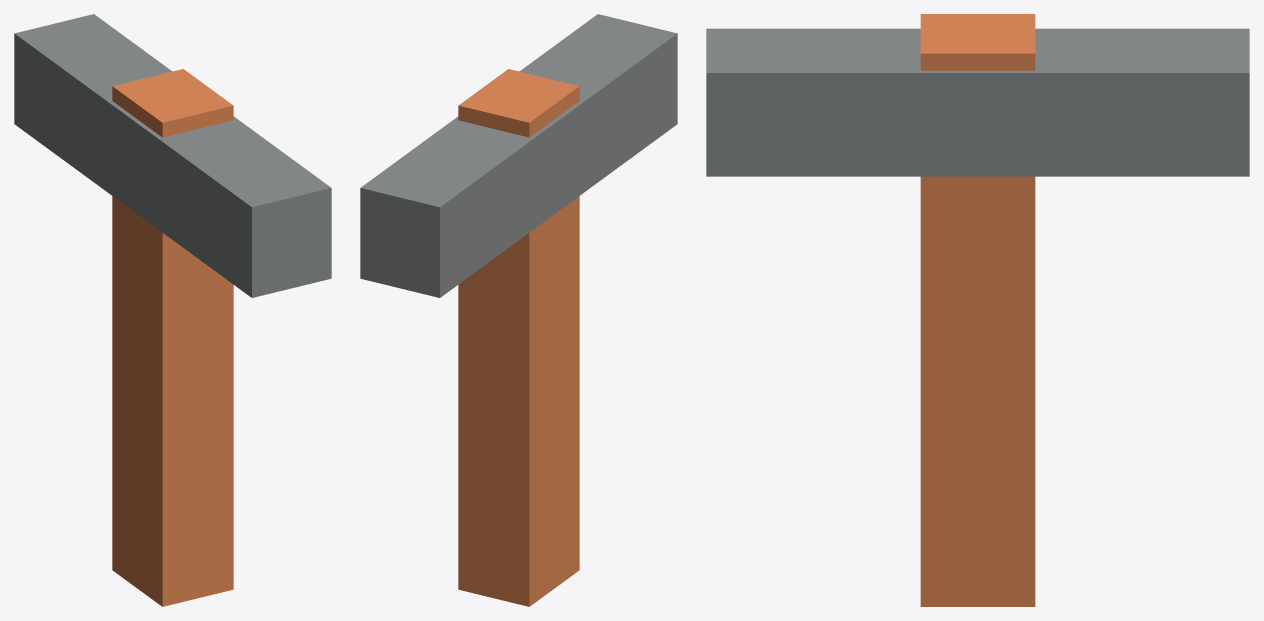
The model's file is stone_pickaxe.fbx.
3 renders of one model, left to right at view 1: azimuth 30°, elevation 25°; view 2: azimuth 150°, elevation 25°; view 3: azimuth 270°, elevation 25°, orthographic. The views are drawn at different scales.
Visible parts, largest first — view 1: Cube, Cube.001; view 2: Cube, Cube.001; view 3: Cube.001, Cube.
Part boxes in pixels (x1,y1,x2,y2): Cube: (112, 69, 233, 606); Cube.001: (14, 14, 331, 297); Cube: (458, 69, 579, 606); Cube.001: (360, 14, 677, 297); Cube.001: (706, 28, 1249, 176); Cube: (920, 14, 1035, 606).
Bounding box in the file's own units: 18.64 × 108 × 96.35.
